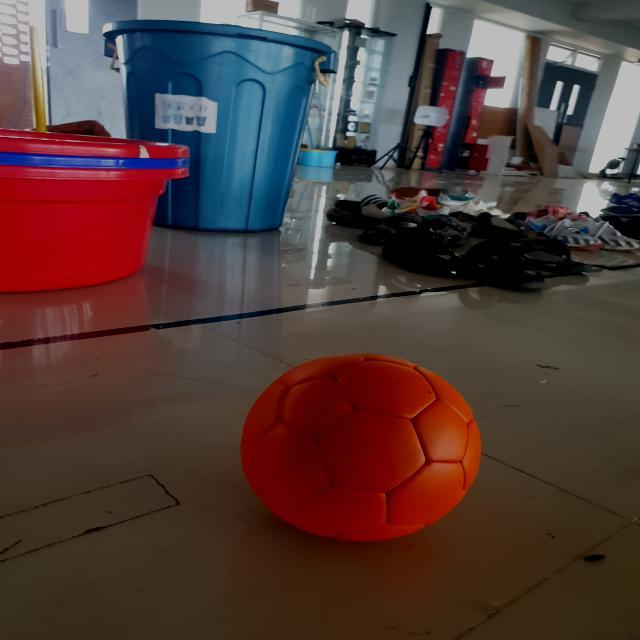bola: (238, 348, 486, 544)
